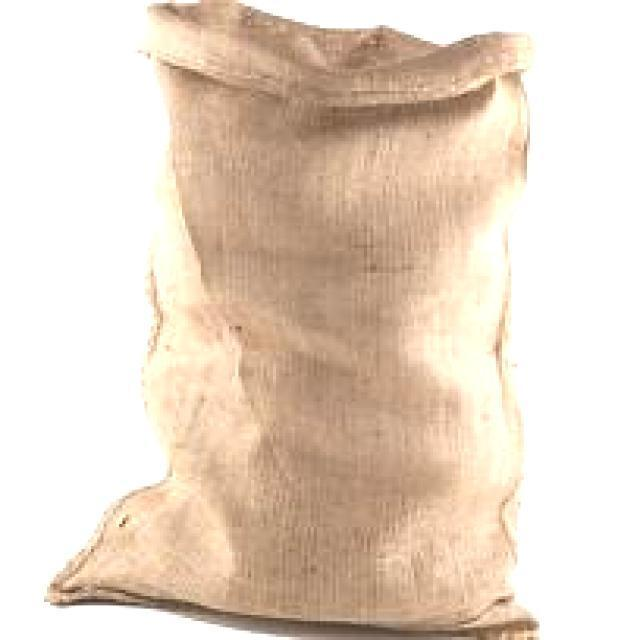gunny_bag: (44, 0, 549, 637)
